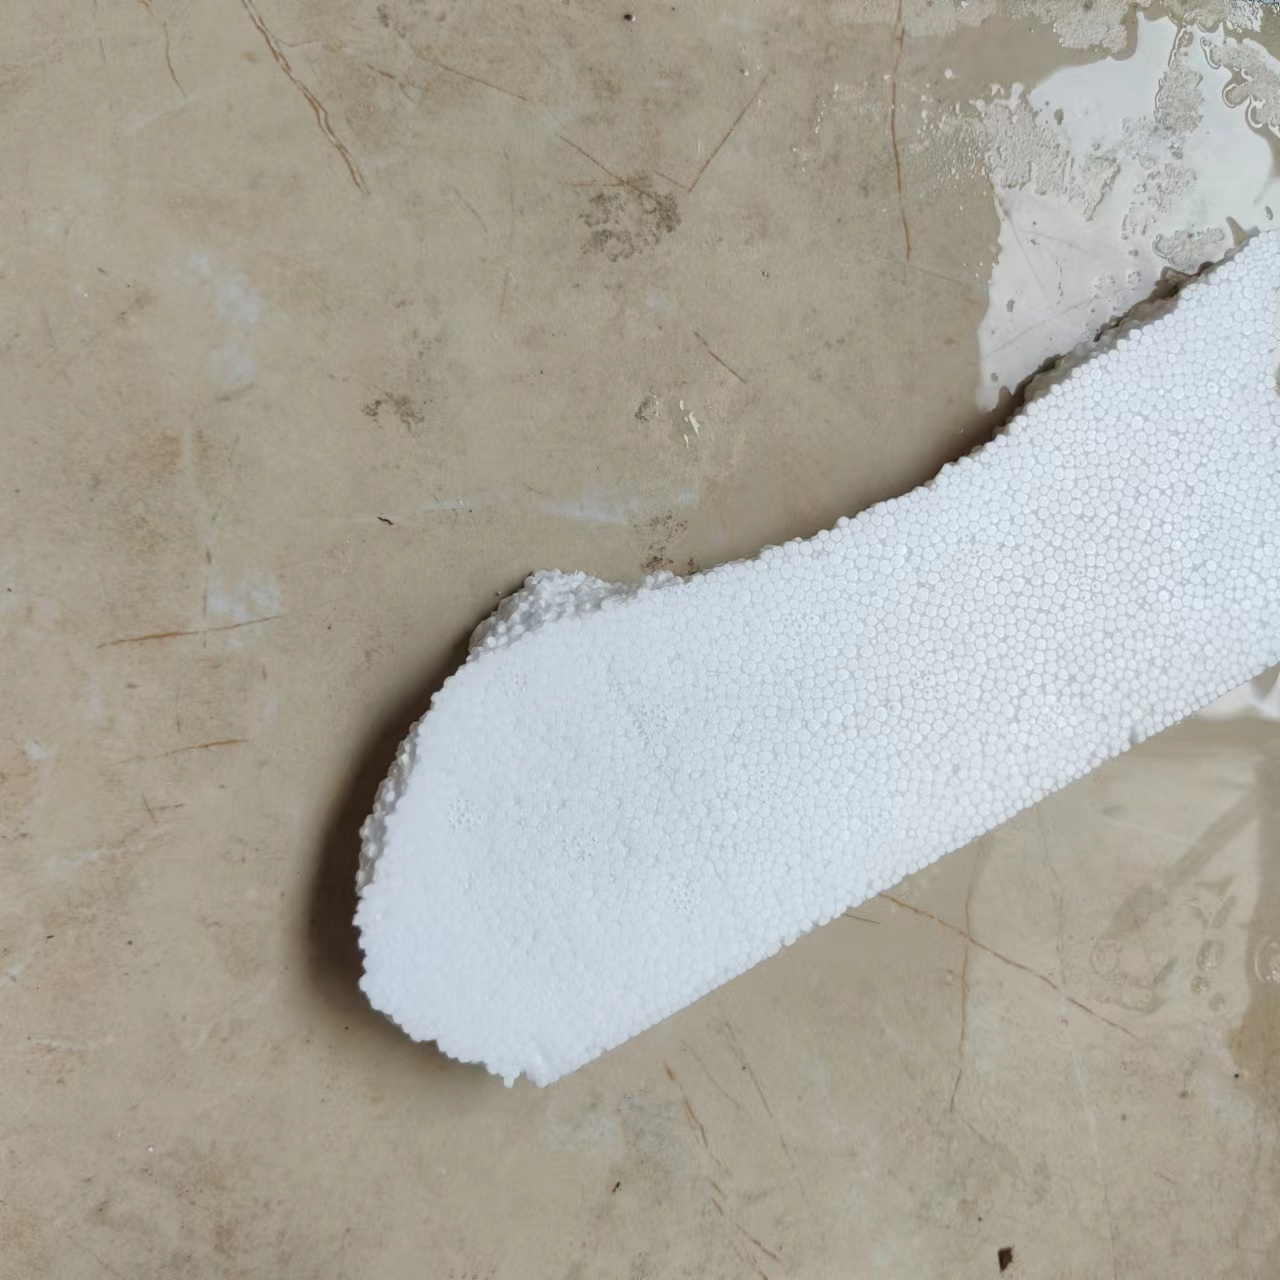5/可回收垃圾/泡沫: (346, 224, 1280, 1092)
